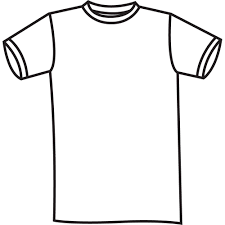T-Shirt: (2, 1, 223, 225)
